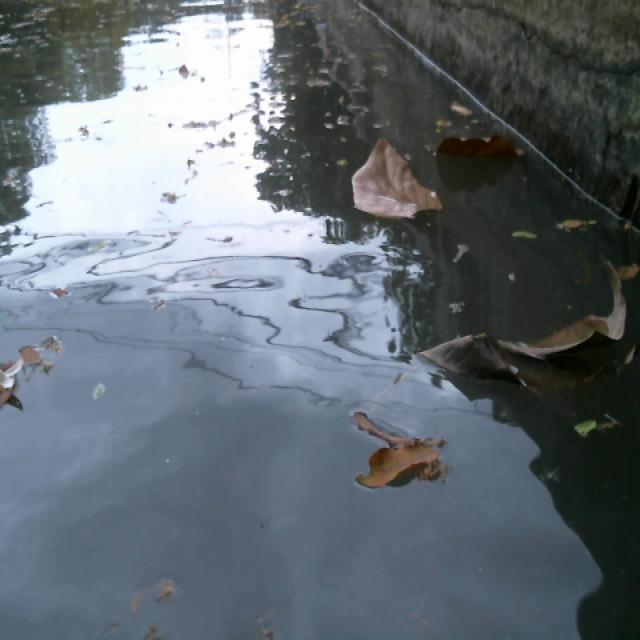Big-leaf: (410, 255, 639, 387), (345, 410, 462, 505), (354, 128, 442, 230), (428, 127, 518, 159)
Small-leaf: (0, 321, 59, 407), (138, 572, 192, 605), (499, 226, 545, 263), (435, 236, 478, 273), (558, 210, 608, 239), (572, 409, 611, 440), (452, 98, 480, 126)
